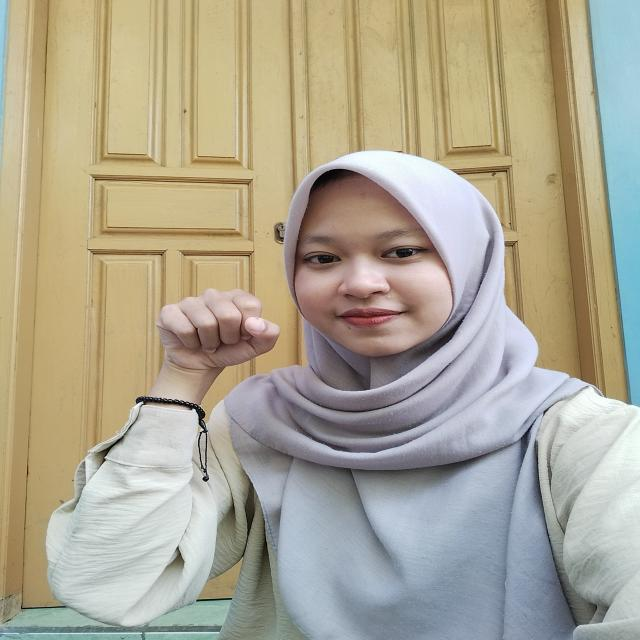baik: (107, 276, 292, 434)
